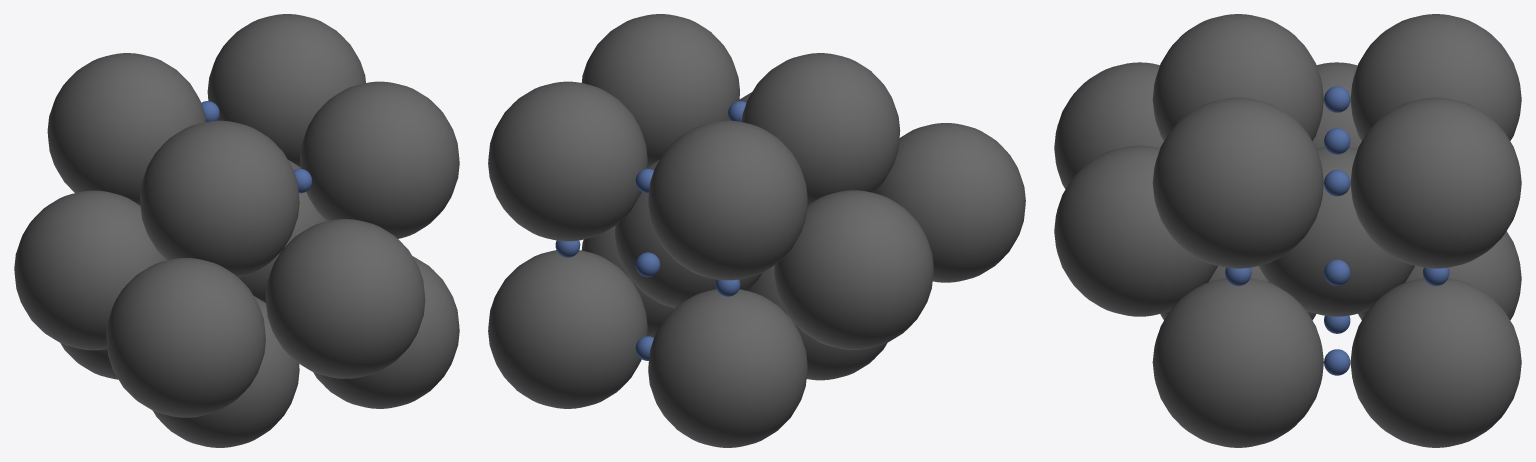
The model's file is krz_OL_erweitert.glb.
3 renders of one model, left to right at view 1: azimuth 30°, elevation 25°; view 2: azimuth 150°, elevation 25°; view 3: azimuth 270°, elevation 25°, orthographic. The views are drawn at different scales.
Visible parts, largest first — view 1: Sphere.006, Sphere.004, Sphere.003; view 2: Sphere.006, Sphere.004, Sphere.003; view 3: Sphere.006, Sphere.004, Sphere.003.
Part boxes in pixels (bbox=[...]): Sphere.006: bbox=[47, 14, 459, 447]; Sphere.004: bbox=[14, 190, 425, 417]; Sphere.003: bbox=[201, 101, 312, 193]; Sphere.006: bbox=[488, 14, 900, 447]; Sphere.004: bbox=[739, 92, 1025, 349]; Sphere.003: bbox=[555, 101, 746, 360]; Sphere.006: bbox=[1152, 14, 1521, 447]; Sphere.004: bbox=[1054, 62, 1361, 316]; Sphere.003: bbox=[1225, 86, 1449, 375].
Bounding box in the file's own units: 5.46 × 4.31 × 5.46.
